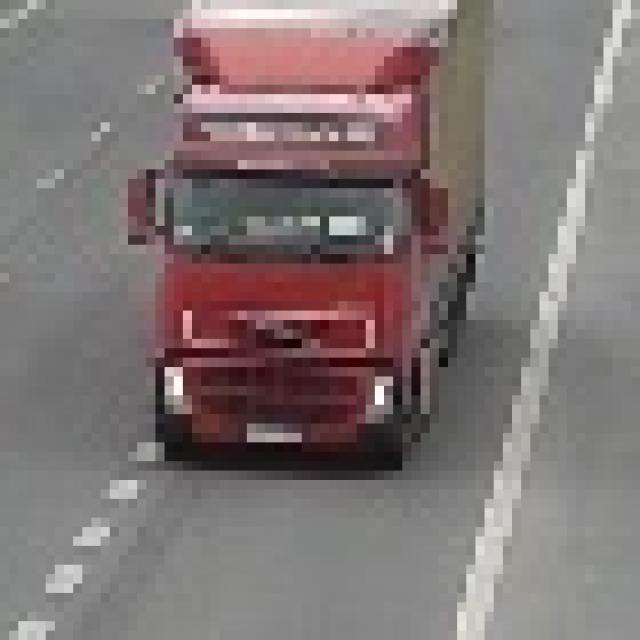TRUCK: (119, 0, 484, 471)
